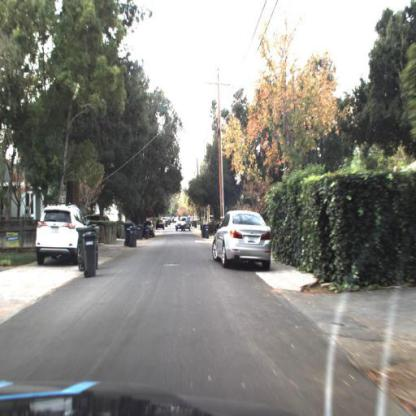car: (212, 209, 275, 270), (34, 200, 93, 265), (34, 204, 83, 269), (81, 208, 112, 231), (175, 217, 193, 233), (144, 220, 155, 236), (157, 217, 167, 231), (205, 212, 215, 224)
